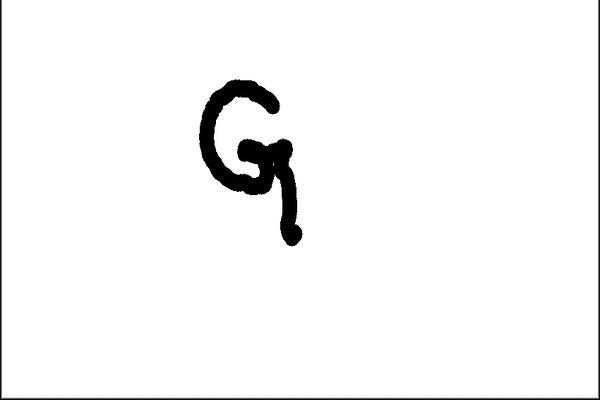G: (195, 73, 309, 253)
